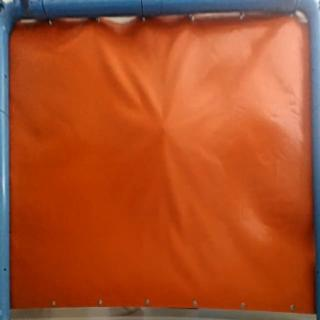Hit-hRxx: (154, 119, 172, 133)
